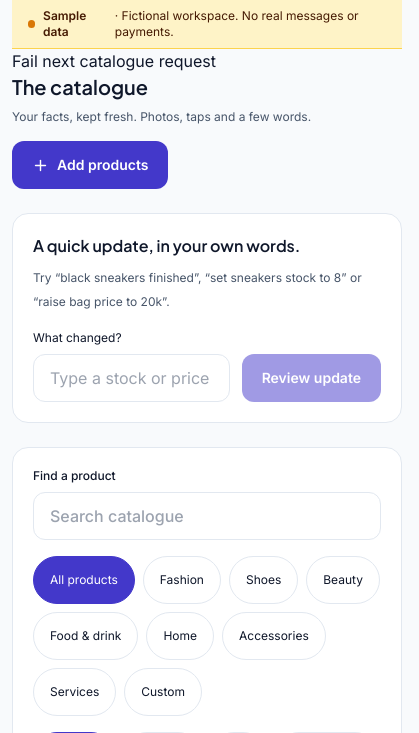
Scenario: requires a product picker for ambiguous updates and can cancel without saving
In the field labelled "What changed?": coordinates (131, 378) x1=33 y1=354 x2=230 y2=402, type "raise adire price to 30k"
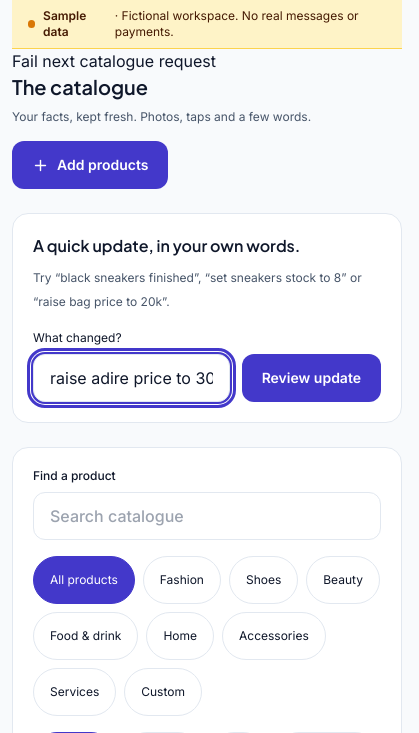
Click the button "Review update": coordinates (311, 378) x1=242 y1=354 x2=381 y2=402
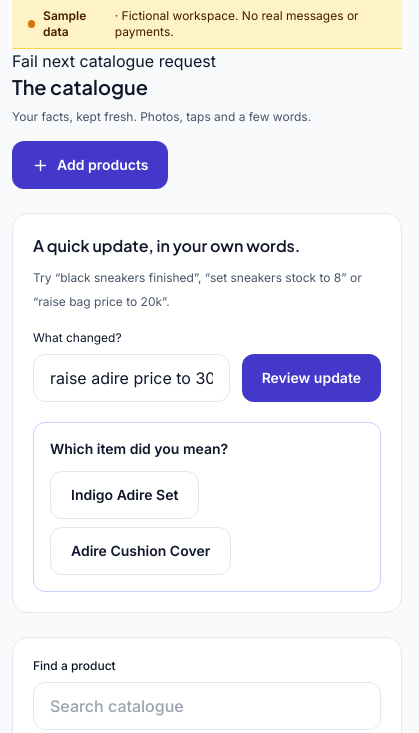
Check: the button "Confirm update" is not shown
Check: the text "Which item did you mean?" is shown, box x1=50 y1=440 x2=228 y2=457
Click the button "Indigo Adire Set": coordinates (125, 495) x1=50 y1=471 x2=199 y2=519
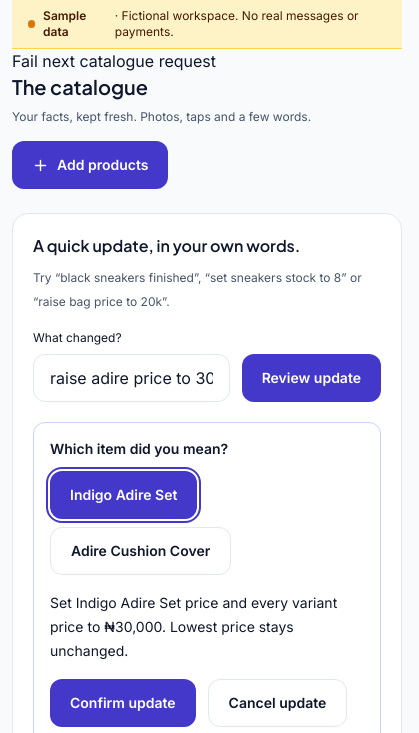
Check: the text "Set Indigo Adire Set price and every variant price to ₦30,000" is shown, box x1=50 y1=594 x2=337 y2=659
Click the button "Cancel update": coordinates (277, 703) x1=208 y1=679 x2=347 y2=727
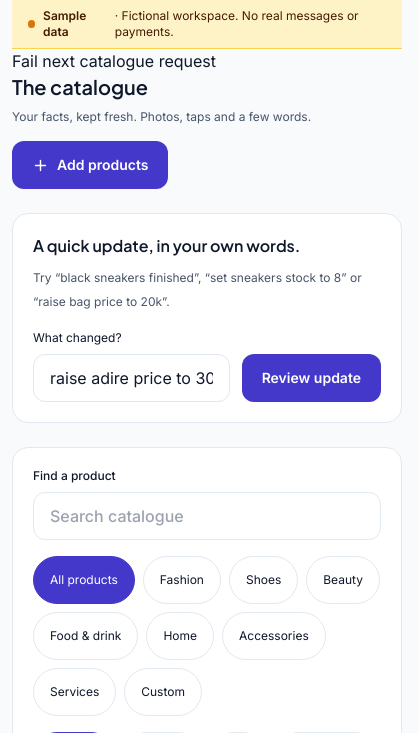
Check: the button "Confirm update" is gone
